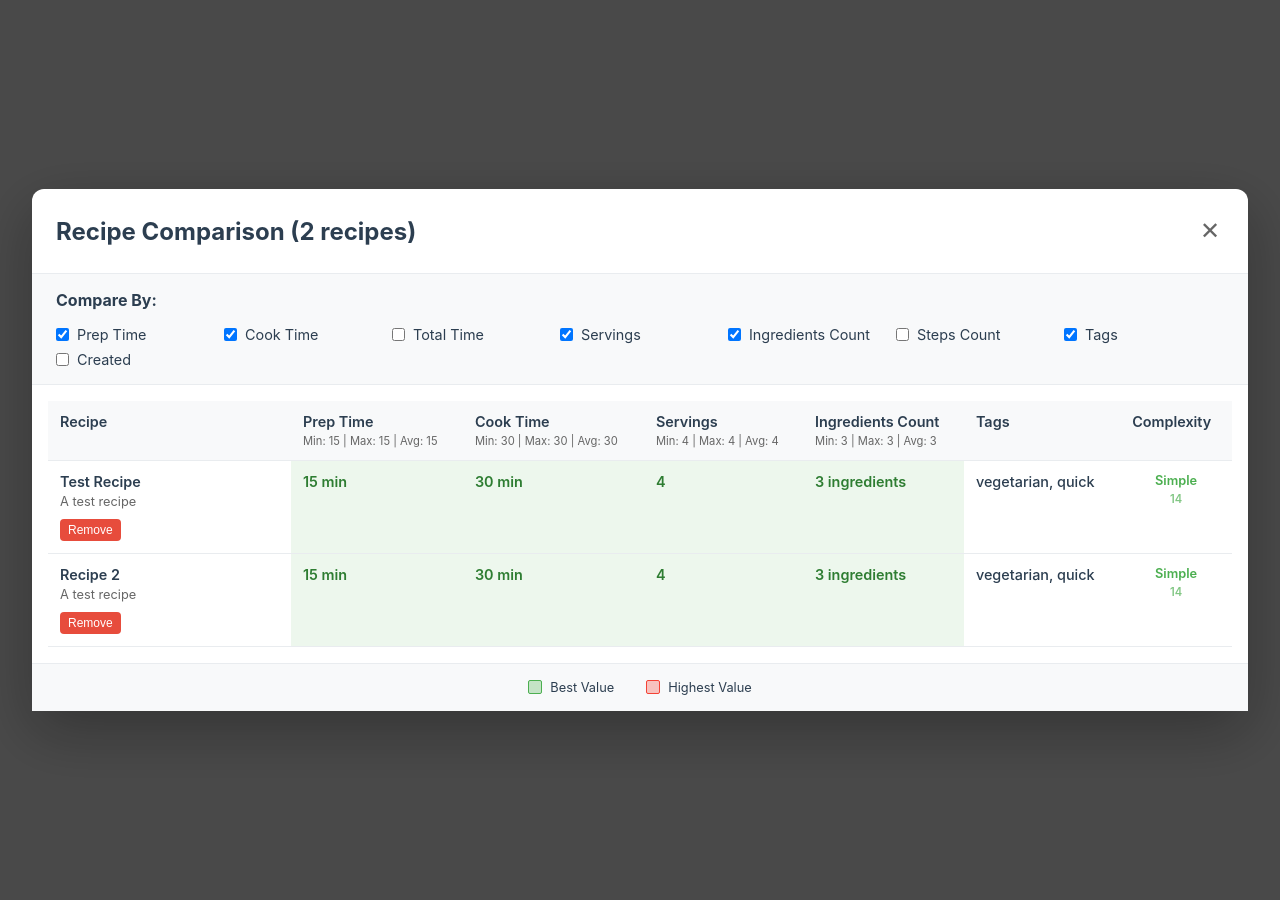
Test: RecipeComparison › metric selection › should persist metric selection state
Expected: the column heading "Prep Time Min: 15 | Max: 15 | Avg: 15" is shown, [291,401,463,461]
# Toggle off Prep Time
Click the checkbox labelled "Prep Time" at (62, 335), box [56,328,69,341]
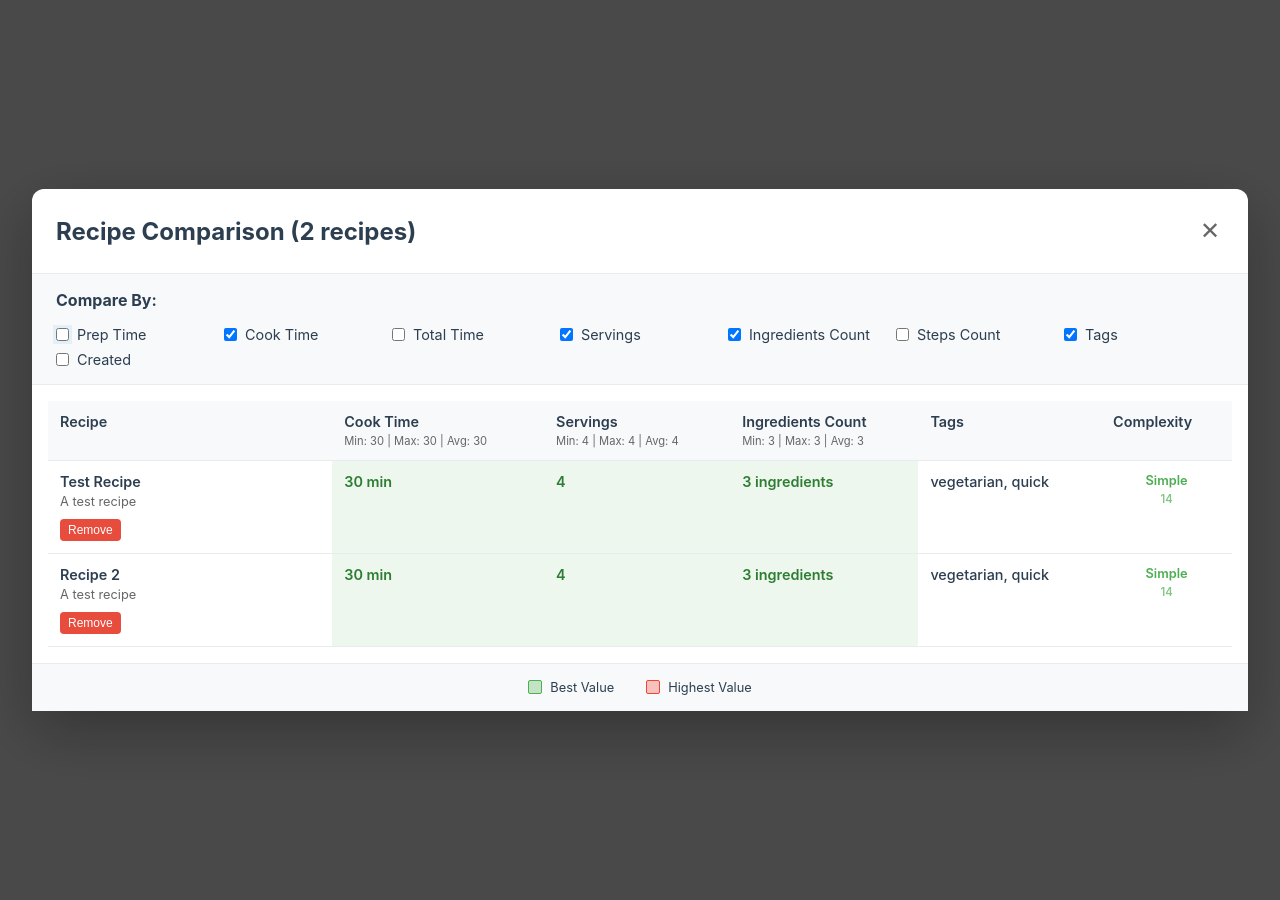
# Toggle it back on
Click the checkbox labelled "Prep Time" at (62, 335), box [56,328,69,341]
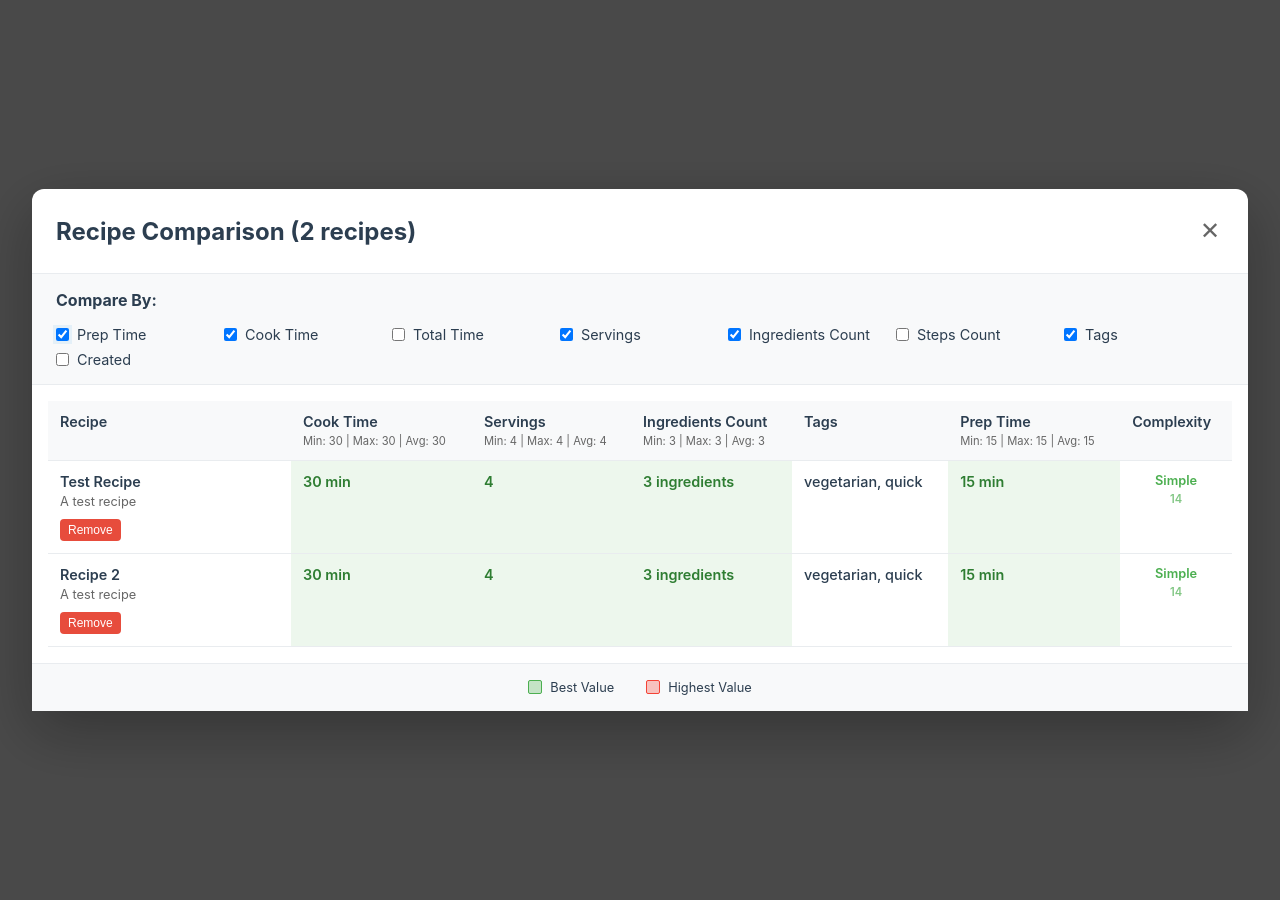
Now the column heading "Prep Time Min: 15 | Max: 15 | Avg: 15" is shown, box [948,401,1120,461]
